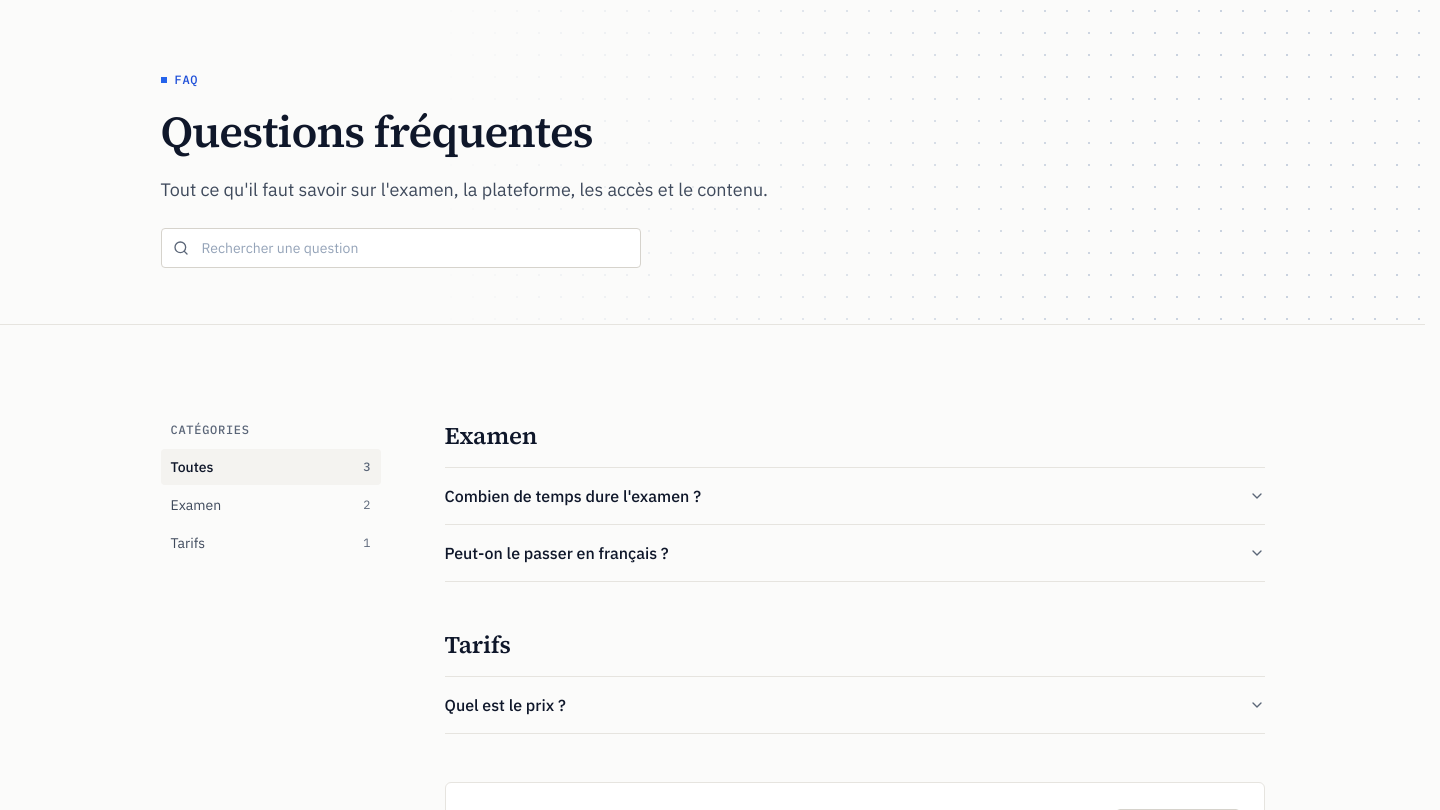
Test case: FaqPageClient › la recherche ignore les accents, compte les résultats et rouvre la première réponse
Type "francais" into the field labelled "Rechercher une question".
click(400, 248); type("francais")  # box [160,228,640,268]
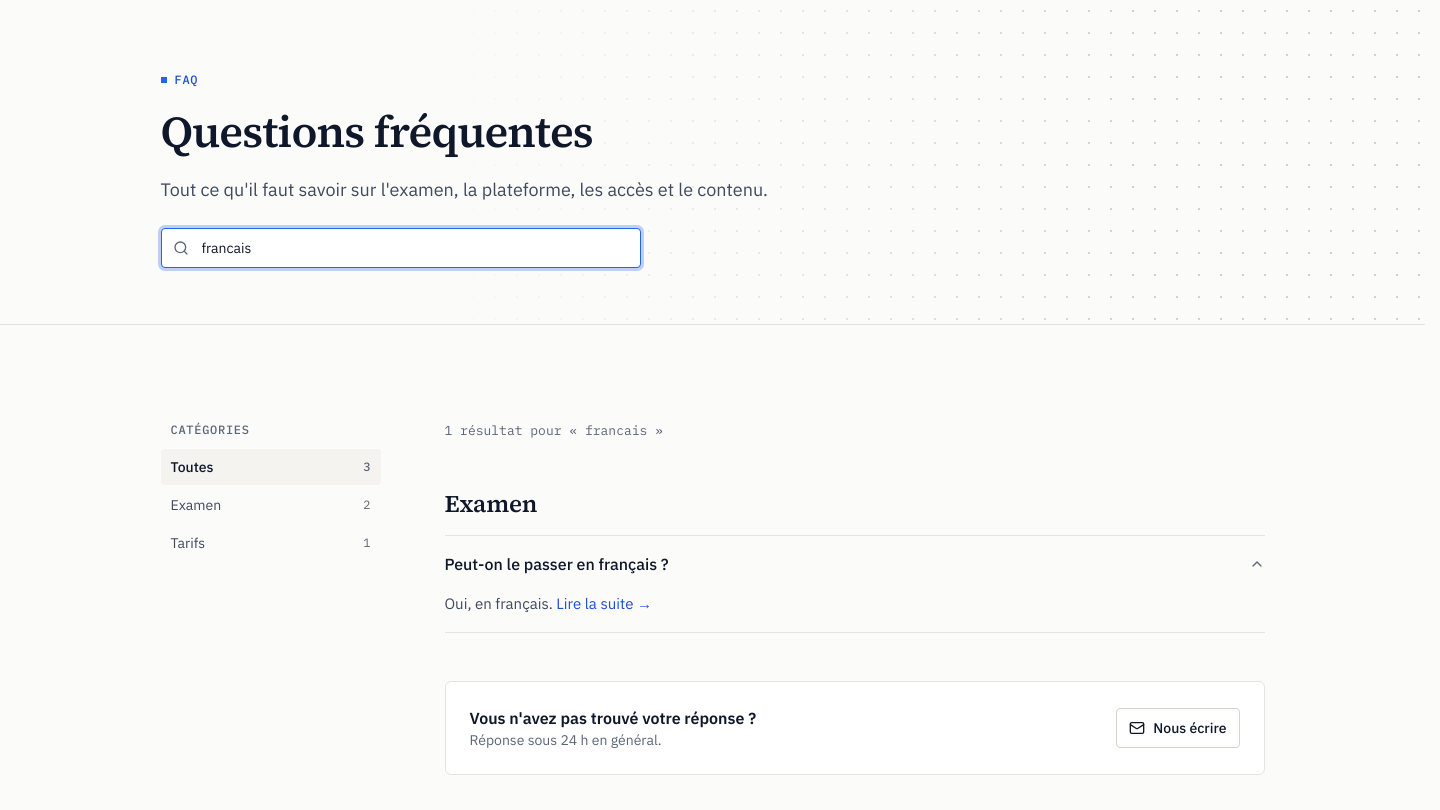
expect the button "Combien de temps dure l'examen ?" is gone: met
expect the text "1 résultat pour « francais »" is shown: met, box [444,422,663,439]
